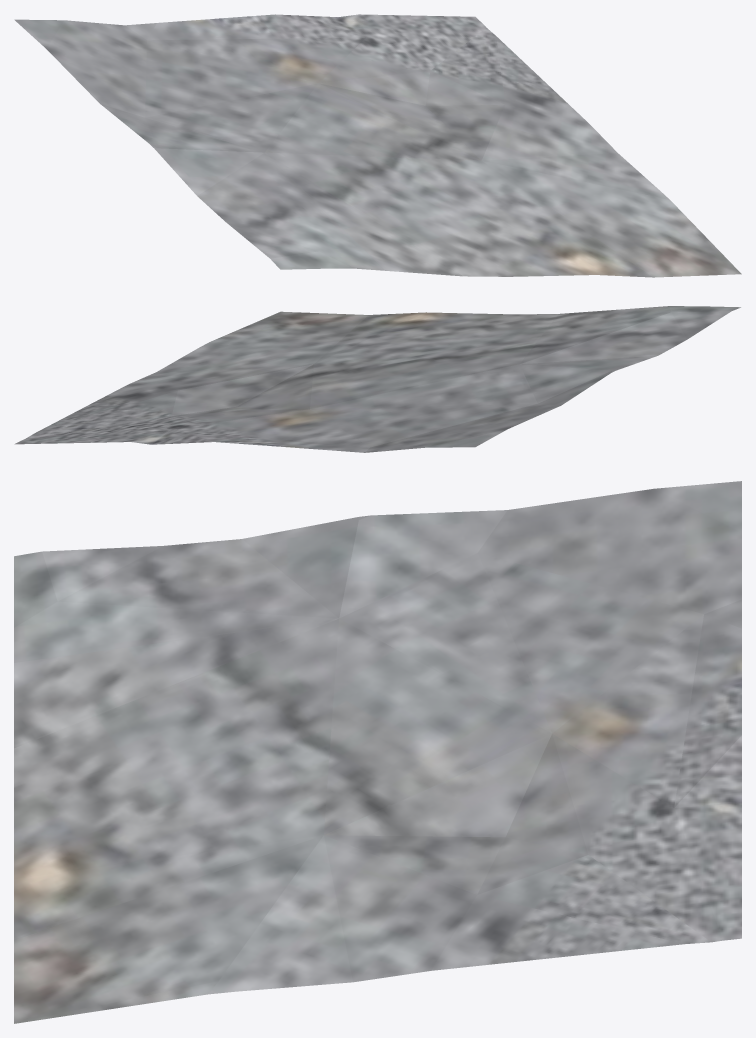
3 views of the same model, one above another, from view 1: azimuth 30°, elevation 25°; view 2: azimuth 150°, elevation 25°; view 3: azimuth 270°, elevation 25° (orthographic). The views are drawn at different scales.
Bounding box in the file's own units: 0.8374 × 0.2986 × 0.8373.
3 materials, 3 textured.
